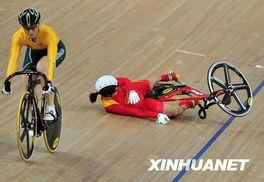bending: (3, 10, 73, 125)
down: (83, 66, 196, 126)
